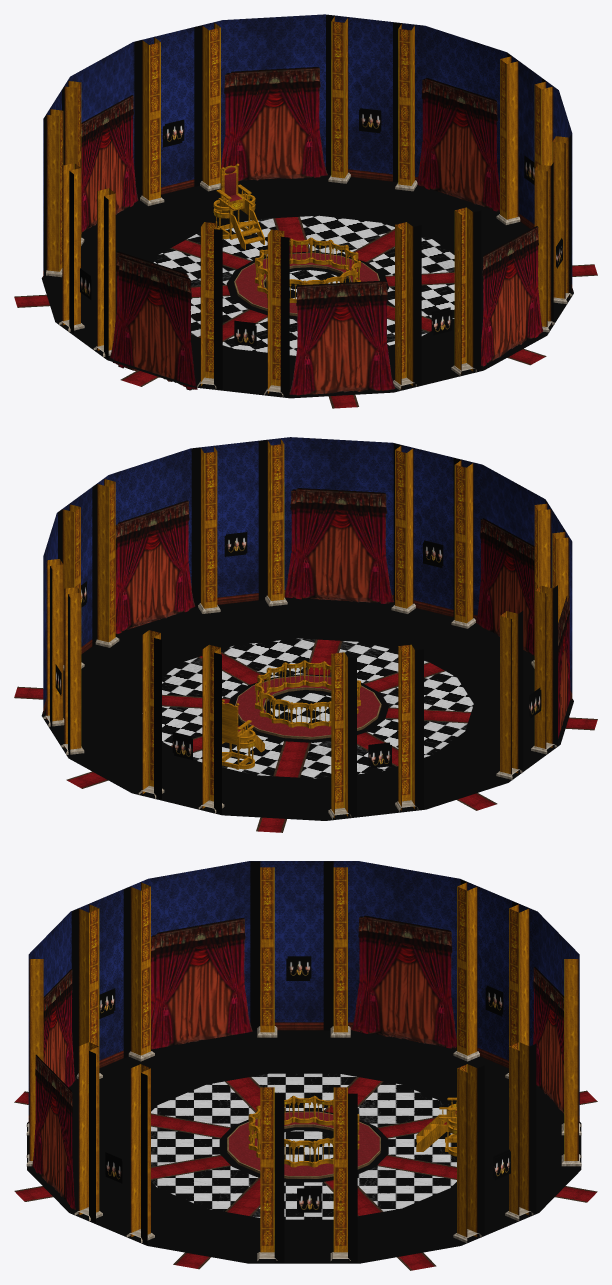
Rendered from trial_grounds.fbx.
3 views of the same model, one above another, from view 1: azimuth 30°, elevation 25°; view 2: azimuth 150°, elevation 25°; view 3: azimuth 270°, elevation 25° (orthographic). The views are drawn at different scales.
Parts seen in each view (by area): view 1: Trial Grounds (Chapter 1); view 2: Trial Grounds (Chapter 1); view 3: Trial Grounds (Chapter 1).
Boxes of the visible parts, box(x1,y1,x2,y2) form: Trial Grounds (Chapter 1): box(14, 14, 597, 408); Trial Grounds (Chapter 1): box(14, 437, 597, 832); Trial Grounds (Chapter 1): box(14, 861, 597, 1270).
Bounding box in the file's own units: 1402 × 461 × 1393.
14 materials, 14 textured.
